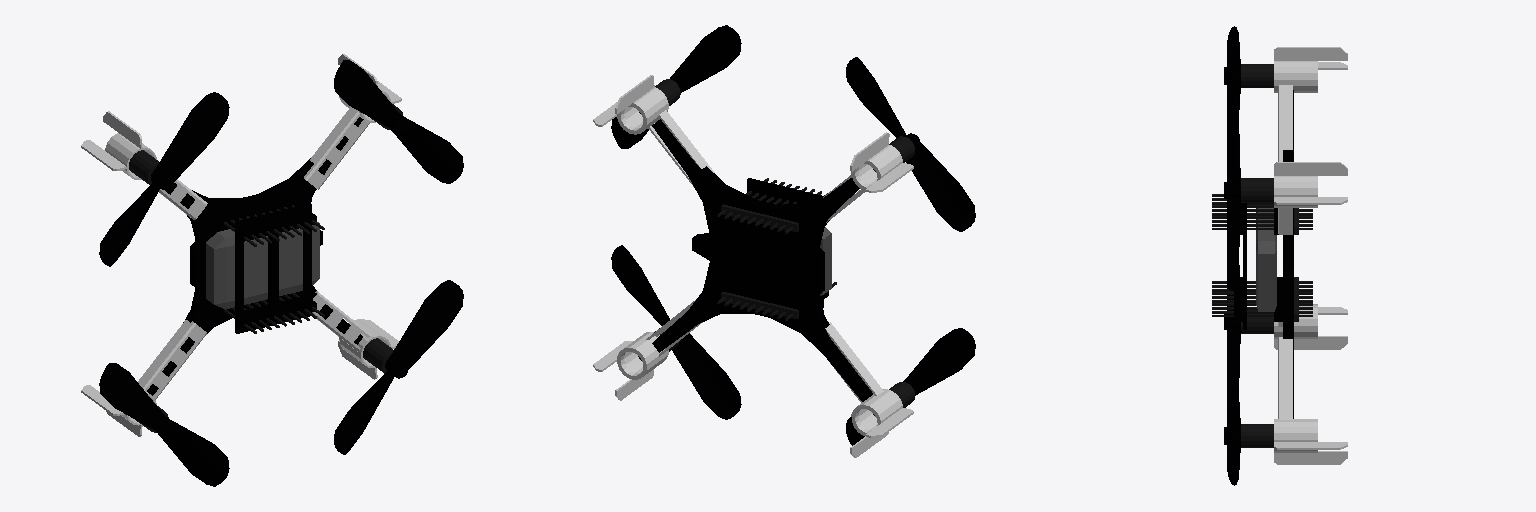
The picture shows the model from 3 angles: view 1: azimuth 30°, elevation 25°; view 2: azimuth 150°, elevation 25°; view 3: azimuth 270°, elevation 25°; orthographic projection.
Visible parts, largest first — view 1: cf_pcb, cf_Material.002, cf_Material.001, cf_metal; view 2: cf_pcb, cf_Material.002, cf_metal; view 3: cf_Material.002, cf_pcb, cf_metal, cf_Material.001.
Boxes of the visible parts, box(x1,y1,x2,y2) form: cf_pcb: box(99, 60, 463, 486); cf_Material.002: box(81, 54, 401, 436); cf_Material.001: box(206, 222, 319, 309); cf_metal: box(129, 103, 402, 432); cf_pcb: box(611, 25, 975, 445); cf_Material.002: box(593, 75, 913, 457); cf_metal: box(638, 79, 914, 415); cf_Material.002: box(1274, 47, 1347, 464); cf_pcb: box(1224, 26, 1293, 485); cf_metal: box(1212, 64, 1312, 447); cf_Material.001: box(1256, 208, 1276, 311).
Size of the model in its own units: 0.104 by 0.1078 by 0.0339.